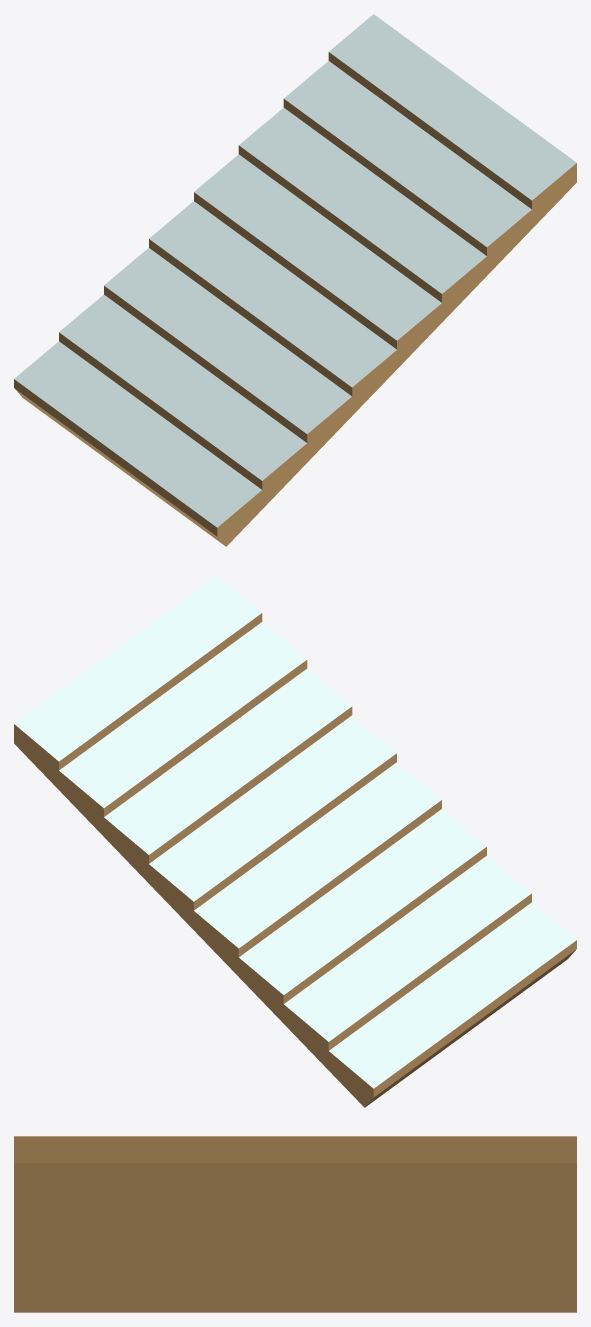
Rendered from cabinRoof.fbx.
The picture shows the model from 3 angles, top to bottom: view 1: azimuth 30°, elevation 25°; view 2: azimuth 150°, elevation 25°; view 3: azimuth 270°, elevation 25°; orthographic projection. The views are drawn at different scales.
Visible parts, largest first — view 1: cabinRoof; view 2: cabinRoof; view 3: cabinRoof.
Part boxes in pixels (left/top/right/bottom): cabinRoof: left=14, top=14, right=576, bottom=546; cabinRoof: left=14, top=575, right=576, bottom=1107; cabinRoof: left=14, top=1136, right=576, bottom=1312.
Bounding box in the file's own units: 12.05 × 9.56 × 11.8.
